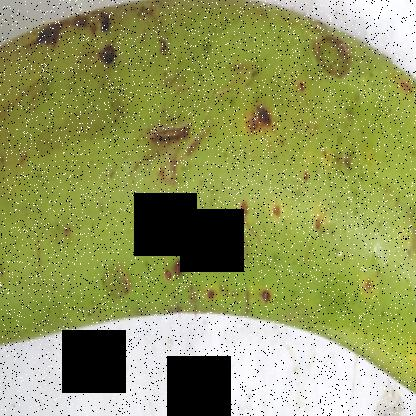unripe: (1, 2, 415, 378)
